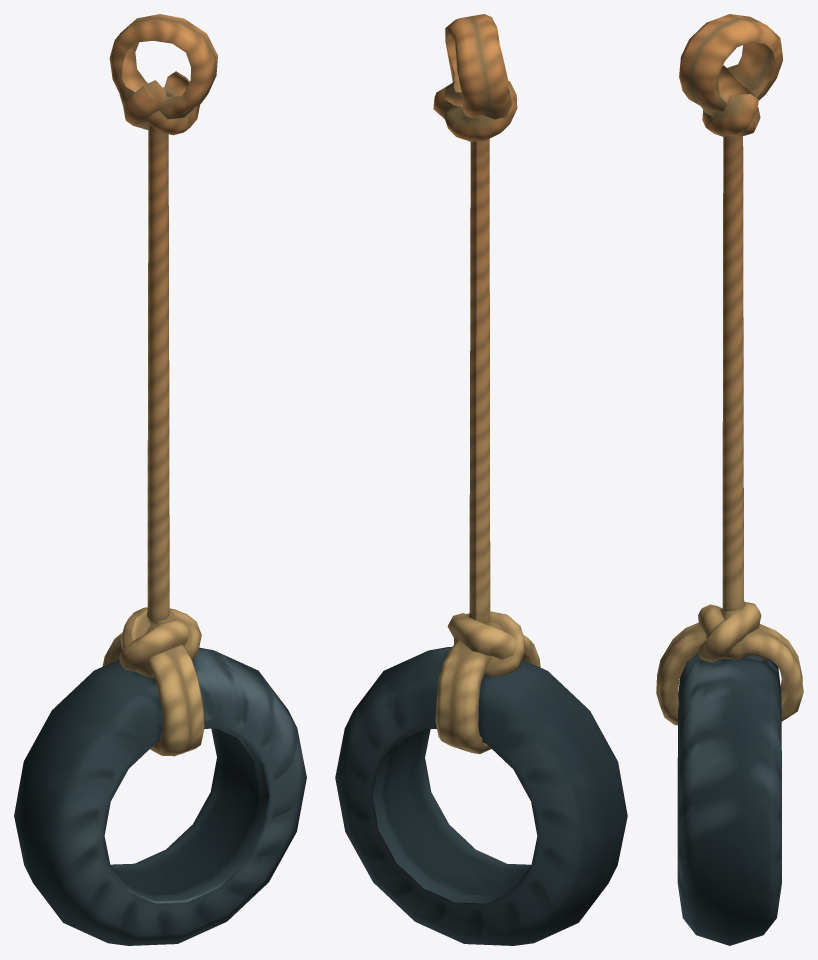
The model's file is S_GardenSwing.fbx.
3 views of the same model, side by side, from view 1: azimuth 30°, elevation 25°; view 2: azimuth 150°, elevation 25°; view 3: azimuth 270°, elevation 25° (orthographic).
Parts seen in each view (by area): view 1: S_GardenSwing; view 2: S_GardenSwing; view 3: S_GardenSwing.
Boxes of the visible parts, bbox=[...] form: S_GardenSwing: bbox=[14, 14, 306, 945]; S_GardenSwing: bbox=[335, 14, 627, 945]; S_GardenSwing: bbox=[656, 14, 803, 945].
Bounding box in the file's own units: 153 × 488 × 71.53.
